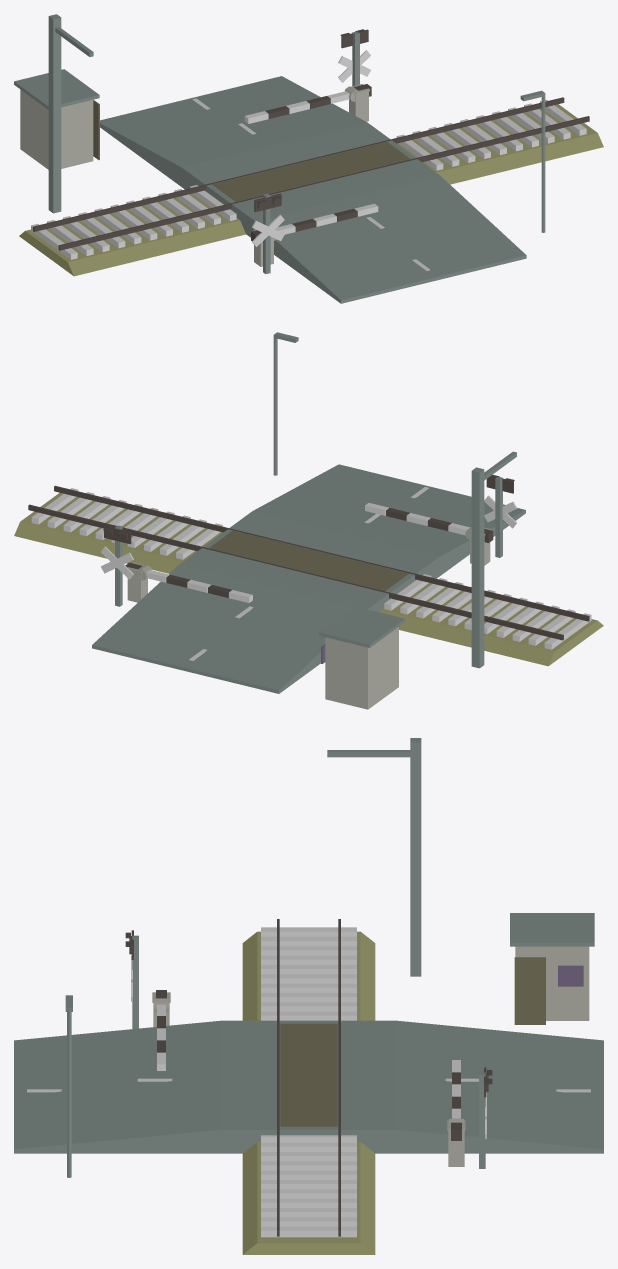
File: SM_PasoNivel_90E_v4_Catenaria_LOD0.fbx
3 renders of one model, top to bottom at view 1: azimuth 30°, elevation 25°; view 2: azimuth 150°, elevation 25°; view 3: azimuth 270°, elevation 25°, orthographic. The views are drawn at different scales.
Visible parts, largest first — view 1: SM_paso_nivel_kit_v24_LOD0, Barrera_1, Barrera_2; view 2: SM_paso_nivel_kit_v24_LOD0, Barrera_1, Barrera_2; view 3: SM_paso_nivel_kit_v24_LOD0, Barrera_2, Barrera_1.
Boxes of the visible parts, box(x1,y1,x2,y2) form: SM_paso_nivel_kit_v24_LOD0: box(14, 14, 603, 303); Barrera_1: box(244, 84, 371, 123); Barrera_2: box(251, 203, 378, 240); SM_paso_nivel_kit_v24_LOD0: box(14, 332, 603, 709); Barrera_1: box(125, 562, 252, 602); Barrera_2: box(365, 503, 493, 542); SM_paso_nivel_kit_v24_LOD0: box(14, 738, 603, 1254); Barrera_2: box(154, 990, 168, 1070); Barrera_1: box(449, 1060, 463, 1140).
Size of the model in its own units: 20 by 7 by 16.
